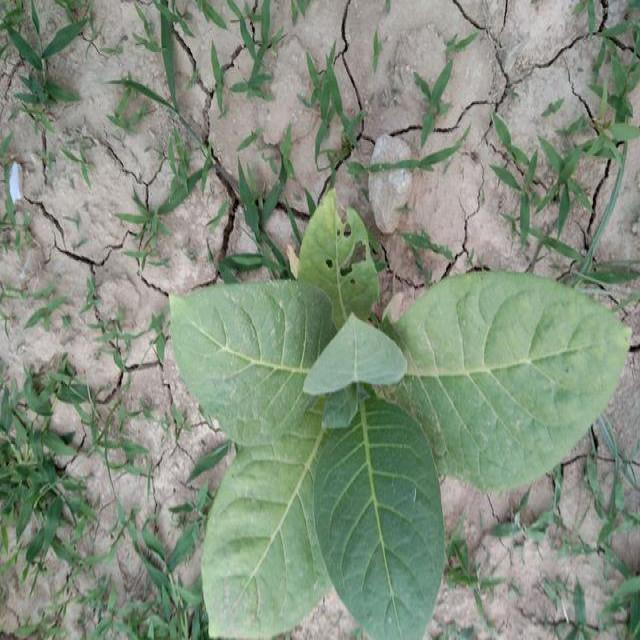crop: (163, 195, 630, 640)
